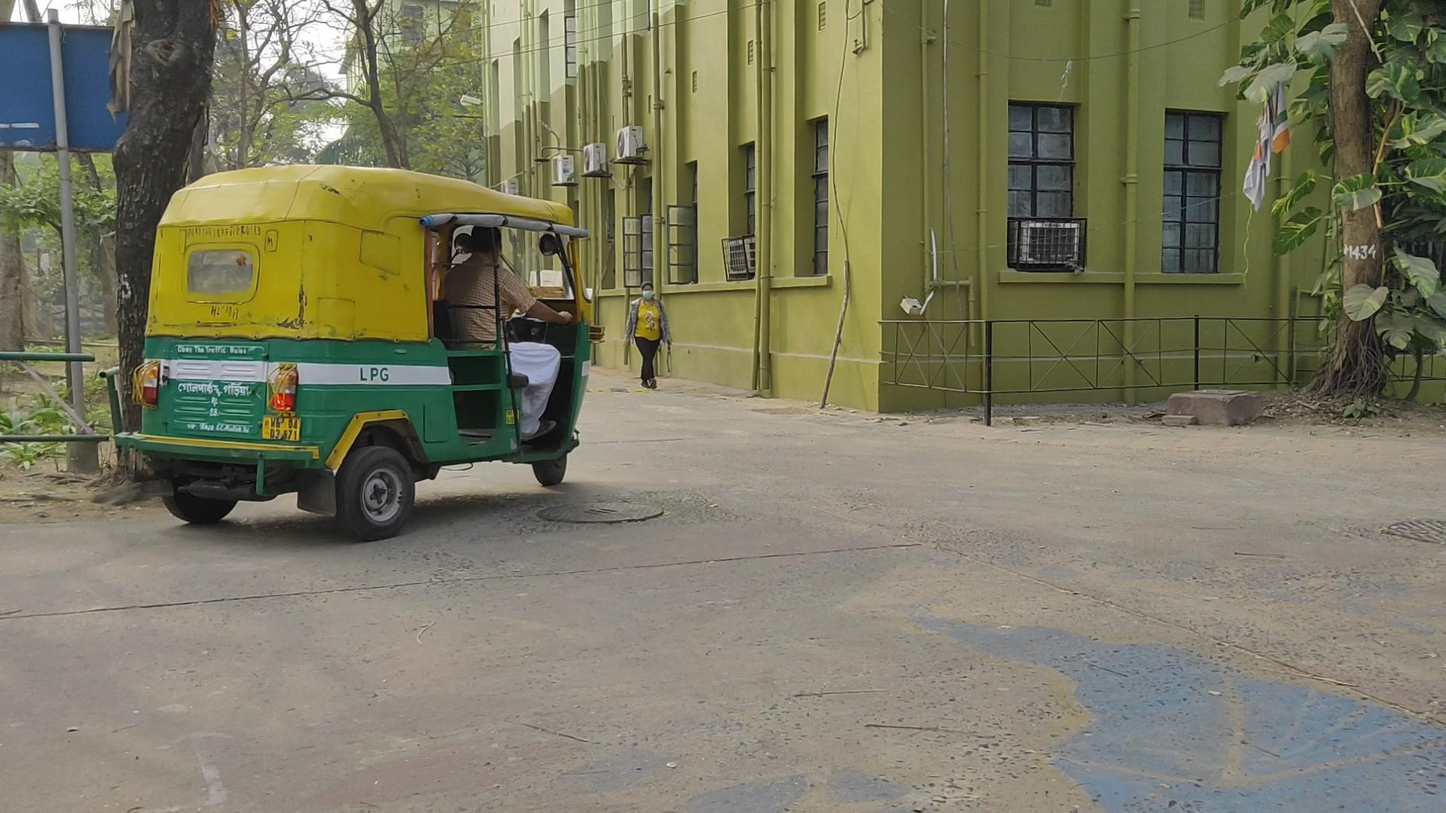Auto: (136, 165, 603, 537)
